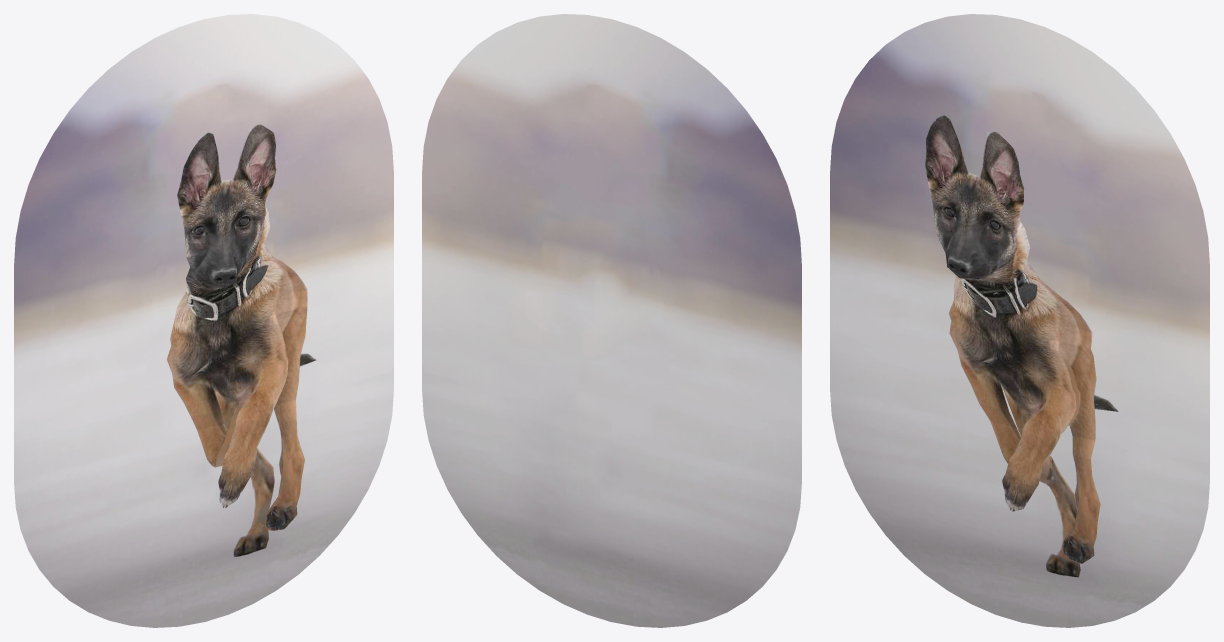
The model's file is Caicos.gltf.
3 renders of one model, left to right at view 1: azimuth 30°, elevation 25°; view 2: azimuth 150°, elevation 25°; view 3: azimuth 330°, elevation 25°, orthographic.
Visible parts, largest first — view 1: Caicos; view 2: Caicos; view 3: Caicos.
Boxes of the visible parts, left/top/right/bottom form: Caicos: left=14, top=14, right=393, bottom=627; Caicos: left=422, top=14, right=801, bottom=627; Caicos: left=830, top=14, right=1209, bottom=627.
Size of the model in its own units: 1.29 by 1.96 by 0.2559.
3 materials, 3 textured.
